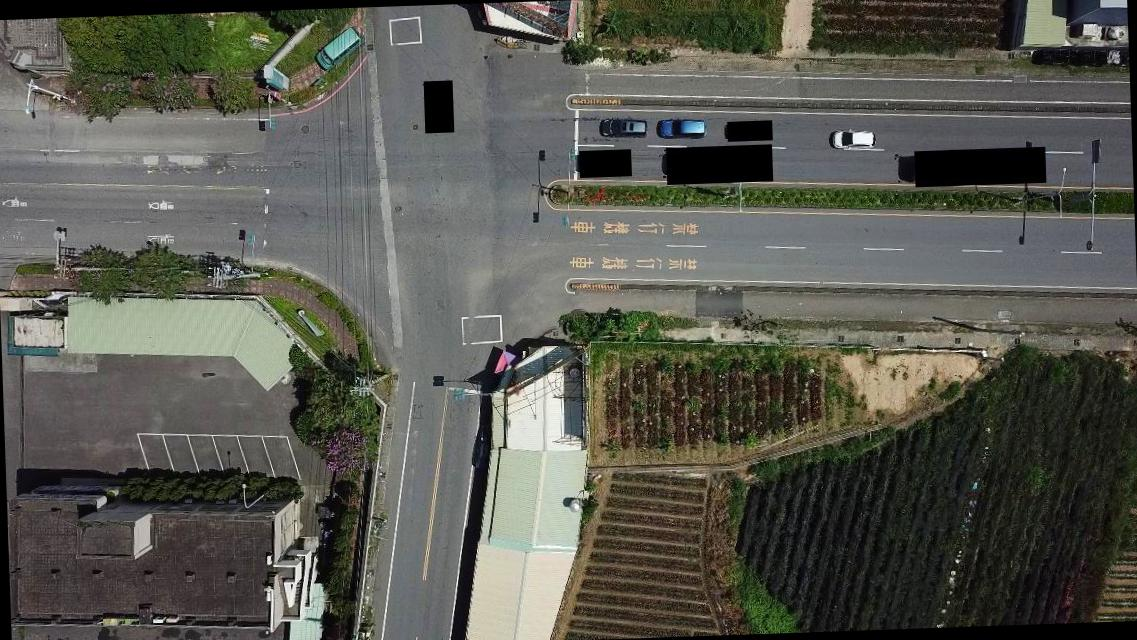vehicle: (312, 25, 366, 71), (828, 125, 876, 152), (599, 115, 648, 140), (656, 118, 706, 139)
